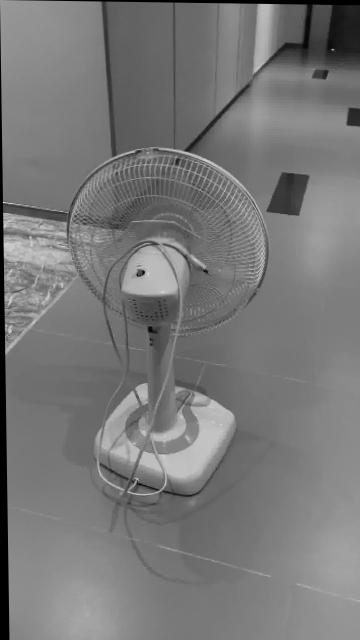Fan: (66, 147, 268, 498)
